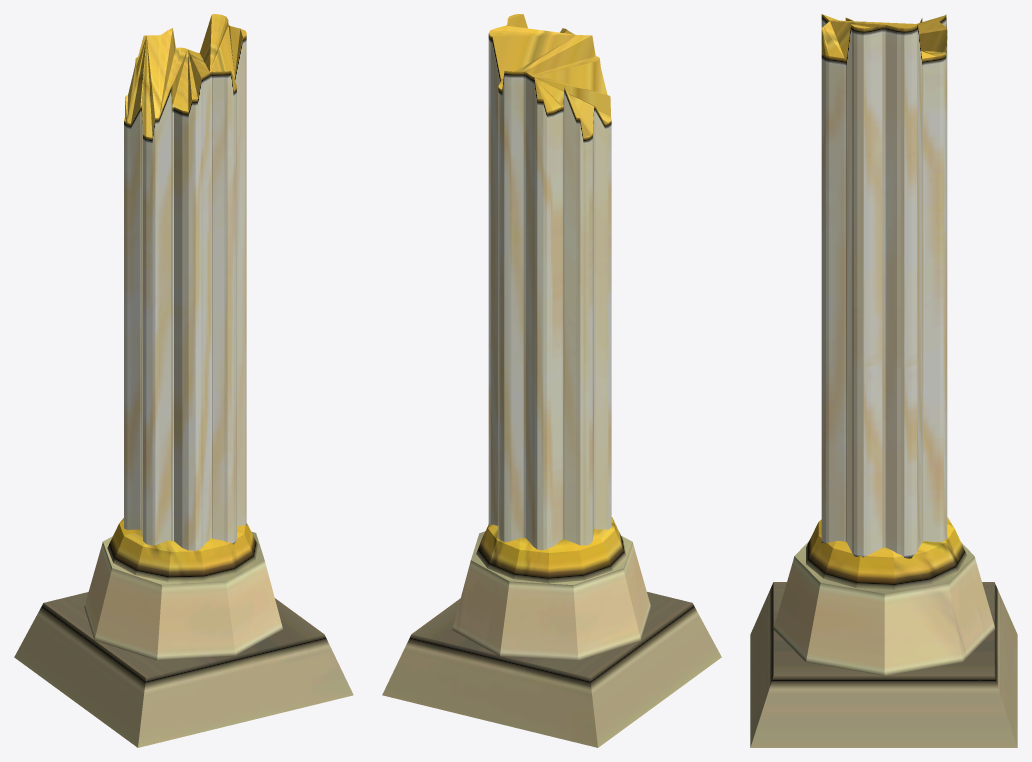
File: Columb4.glb
The picture shows the model from 3 angles, left to right: view 1: azimuth 30°, elevation 25°; view 2: azimuth 150°, elevation 25°; view 3: azimuth 270°, elevation 25°; orthographic projection. The views are drawn at different scales.
Parts seen in each view (by area): view 1: Columb4; view 2: Columb4; view 3: Columb4.
Part boxes in pixels (x1,y1,x2,y2): Columb4: (14,14,353,747); Columb4: (382,14,721,747); Columb4: (750,14,1017,747).
Size of the model in its own units: 153 by 434 by 152.
Materials: 1 (1 with a texture image).
